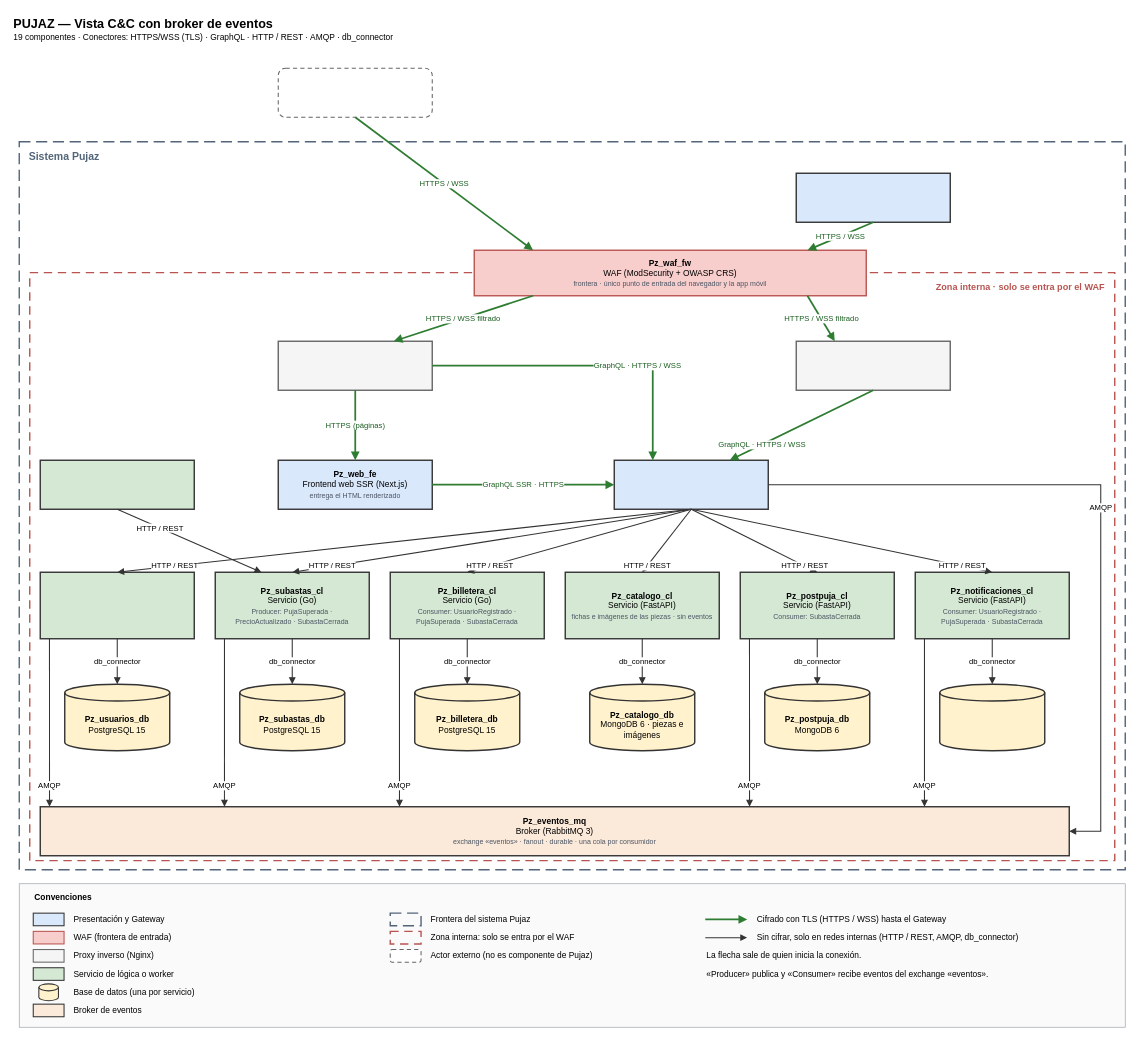
This 1138x1040 diagram has some shape labels left out. Here are the shapes that lost their labels. From the top down, the centre of each, then its label:
pixel 354 92: «externo» Navegador web no es componente de Pujaz
pixel 873 197: Pz_movil_fe App móvil (Flutter) APK en Android
pixel 355 365: Pz_web_rp Proxy inverso (Nginx) / → Pz_web_fe · /graphql → Pz_api_ag
pixel 873 365: Pz_movil_rp Proxy inverso (Nginx) /graphql → Pz_api_ag
pixel 117 484: Pz_cierre_cl Worker de cierre (Go) cada minuto
pixel 691 484: Pz_api_ag API Gateway GraphQL (Node.js) Consumer: PrecioActualizado
pixel 117 605: Pz_usuarios_cl Servicio (Spring Boot) Producer: UsuarioRegistrado
pixel 992 717: Pz_notificaciones_db Redis
